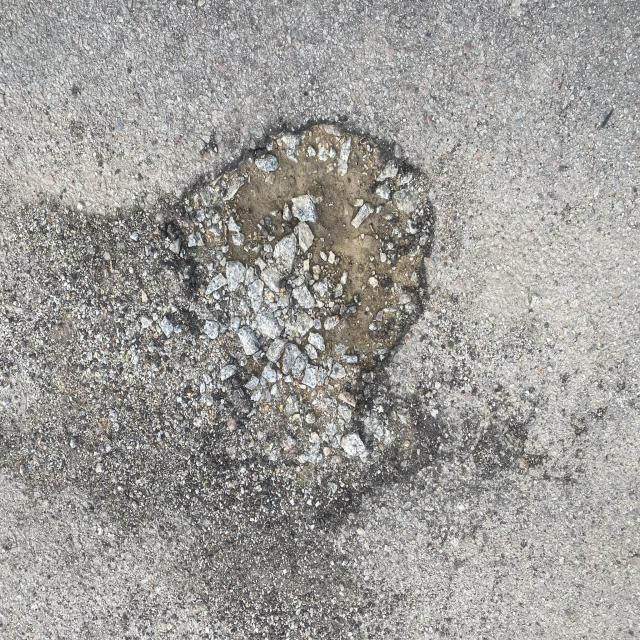Pothole: (107, 88, 470, 564)
